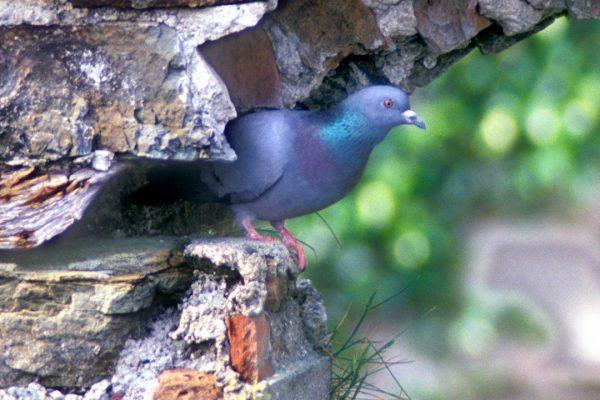Flying Rat: (144, 80, 438, 252)
